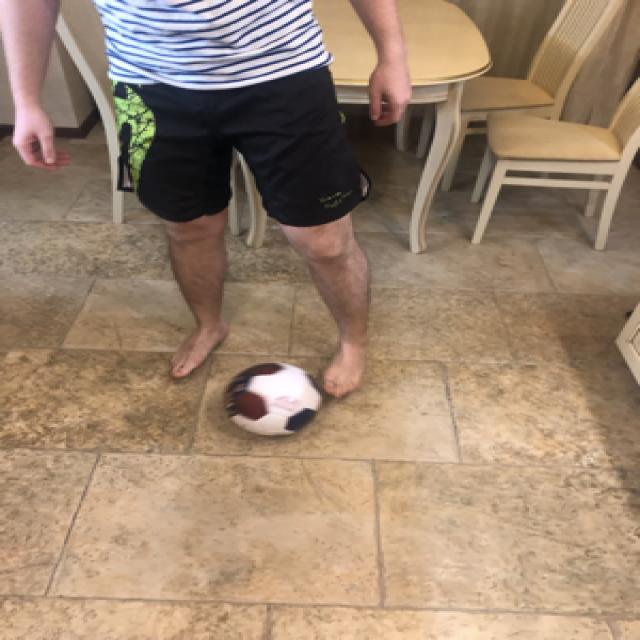soccer_ball: (218, 360, 320, 435)
